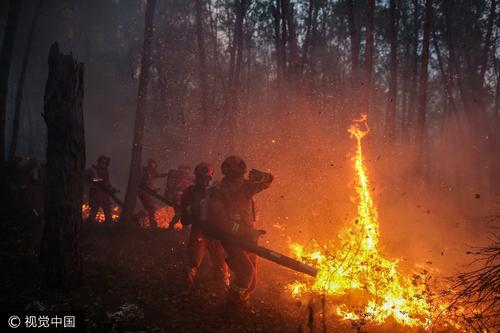fire: (286, 121, 455, 327)
